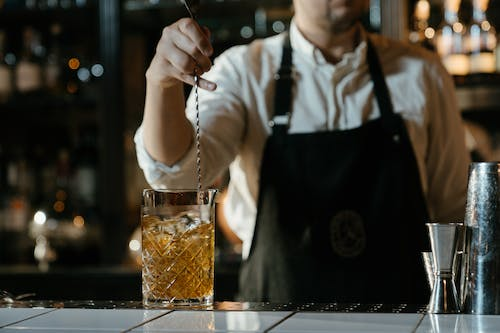alcohol: (139, 187, 218, 309)
